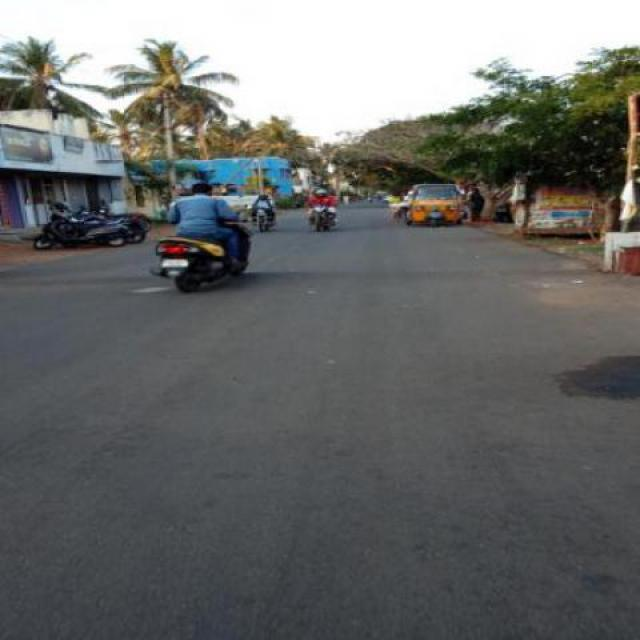Unmarked Bump: (1, 266, 612, 292)
